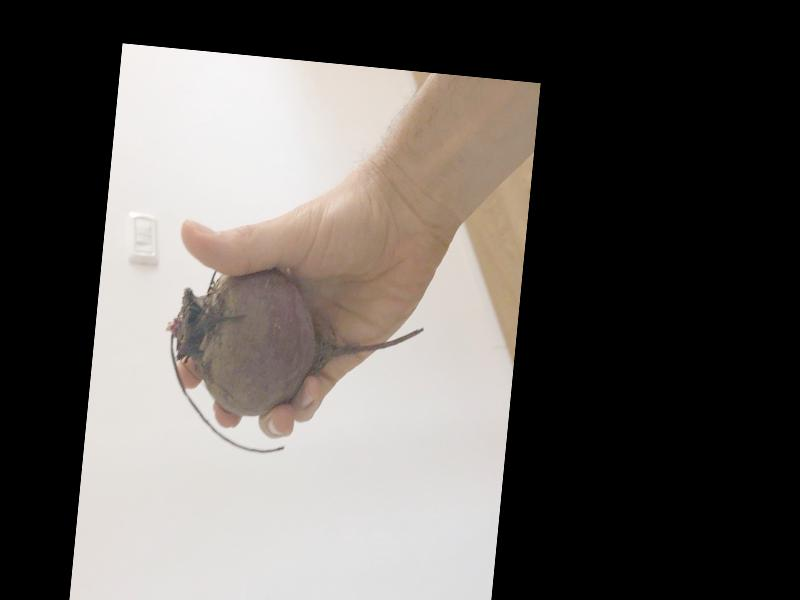Beet: (156, 264, 427, 469)
